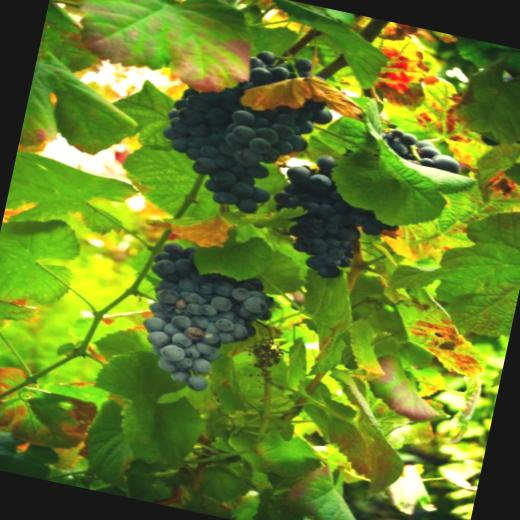Orange: (150, 33, 346, 227), (123, 238, 282, 402), (260, 146, 413, 290), (382, 125, 465, 173), (480, 135, 502, 148)
